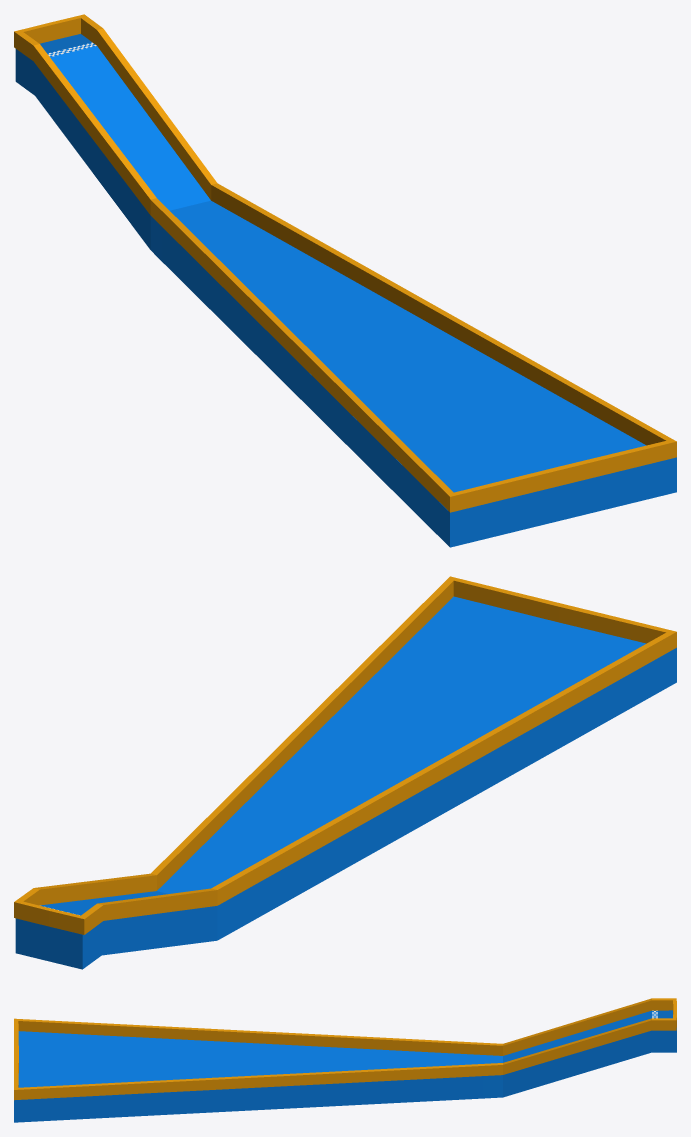
The model's file is level02.fbx.
3 views of the same model, one above another, from view 1: azimuth 30°, elevation 25°; view 2: azimuth 150°, elevation 25°; view 3: azimuth 270°, elevation 25° (orthographic). The views are drawn at different scales.
Visible parts, largest first — view 1: GROUND, walls; view 2: GROUND, walls; view 3: GROUND, walls.
Part boxes in pixels (left/top/right/bottom): GROUND: left=15, top=34, right=676, bottom=547; walls: left=14, top=14, right=676, bottom=512; GROUND: left=15, top=596, right=676, bottom=969; walls: left=14, top=576, right=676, bottom=934; GROUND: left=14, top=1010, right=676, bottom=1122; walls: left=14, top=998, right=676, bottom=1100.
Bounding box in the file's own units: 680 × 345 × 2671.
